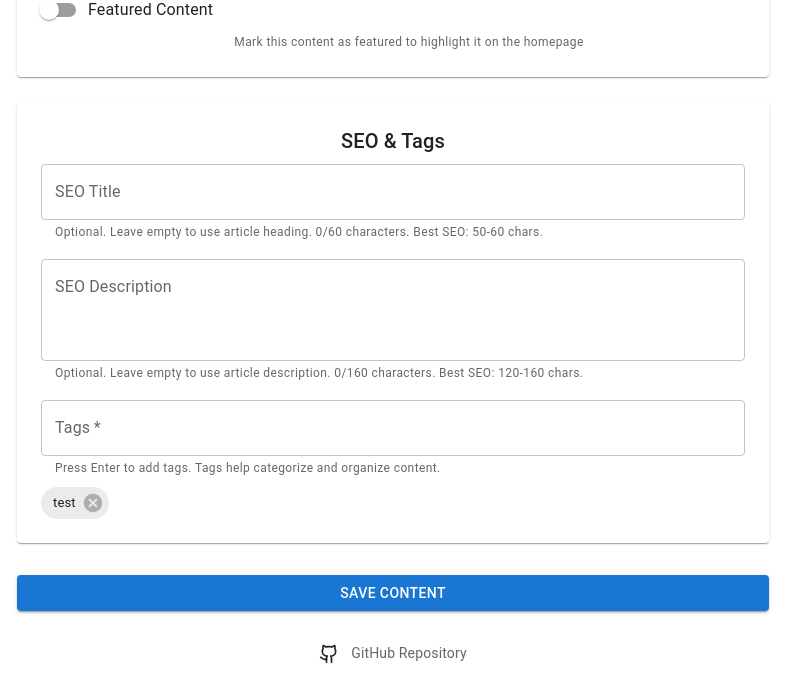
Test: CMSForm › Form Submission › should display success message after successful submission
(page scrolled)
Click the button "Save Content" at (393, 593), box [17,575,769,611]
(page scrolled)
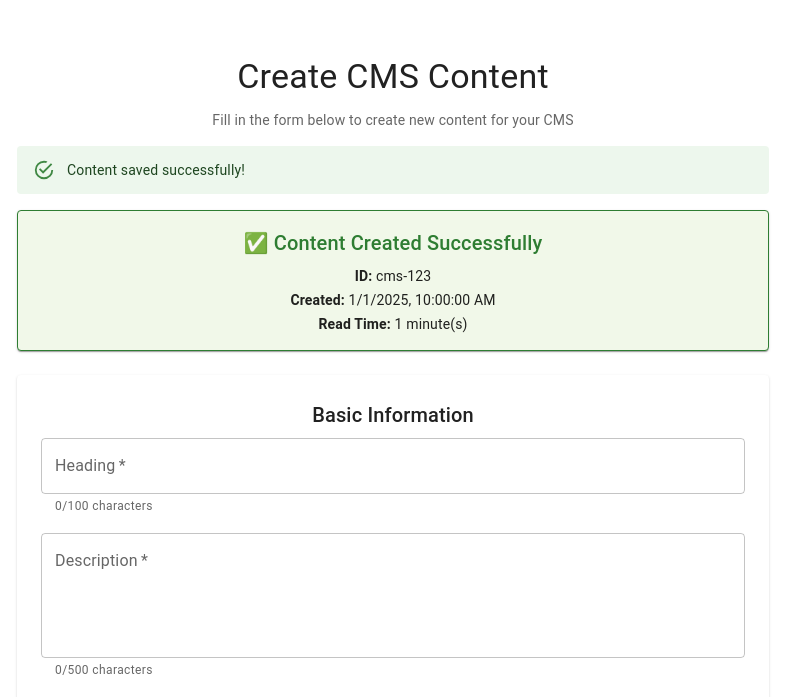
Expected: the text "Content saved successfully!" is shown, [67,162,245,178]
